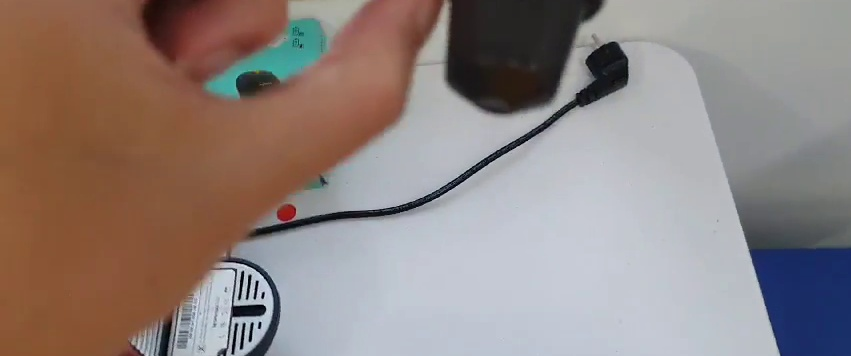capsule_4: (438, 1, 606, 117)
